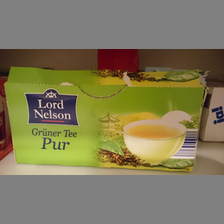tea: (3, 65, 208, 173)
